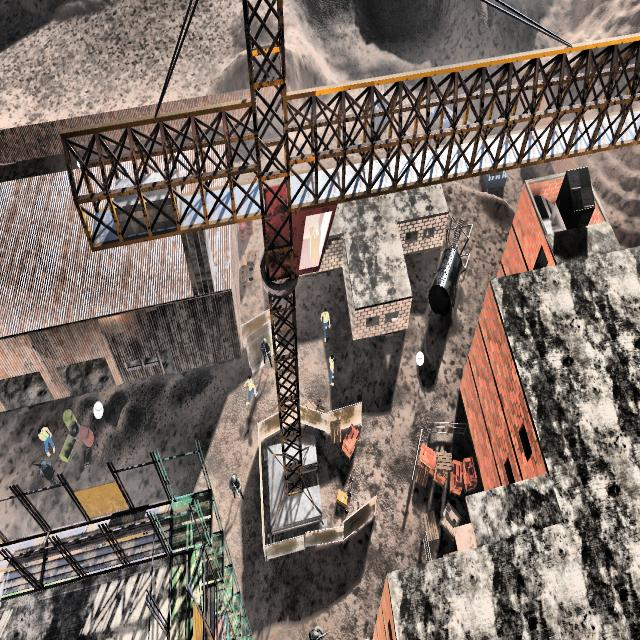bad: (35, 461, 58, 499), (304, 609, 330, 640), (226, 460, 244, 504), (258, 330, 274, 375)
good: (34, 420, 58, 459), (240, 365, 259, 408), (324, 349, 339, 387), (320, 305, 332, 346)
